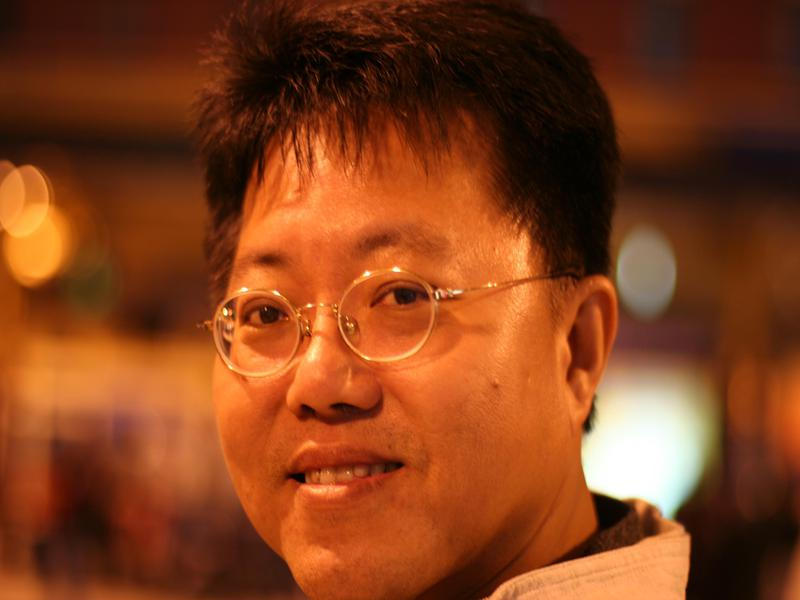person: (198, 2, 721, 600)
